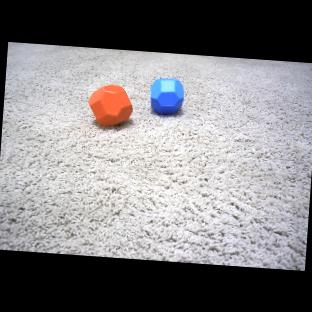V5_BLUE: (148, 76, 185, 114)
V5_RED: (88, 83, 135, 129)
